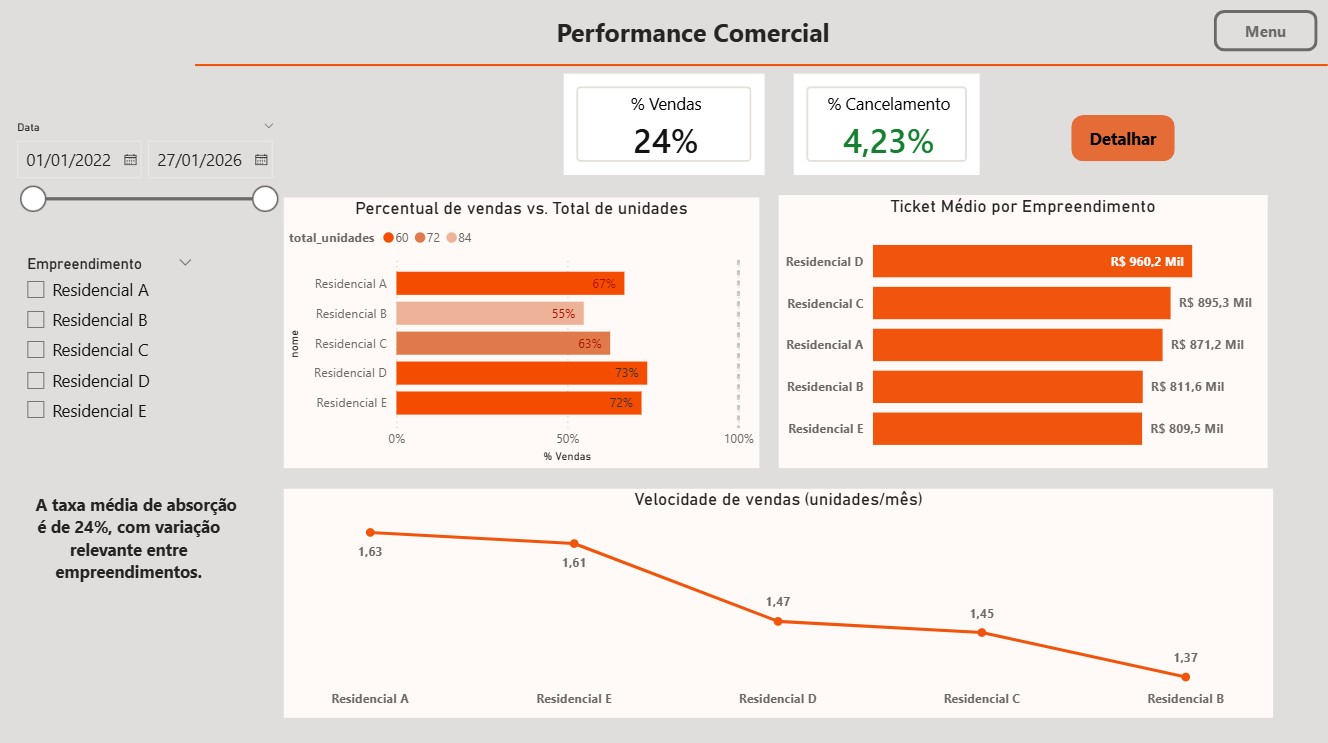

What the dashboard file says about the page in this screenshot:
{"tool":"powerbi","page":{"name":"Performance Comercial","canvas":[1280,720],"ordinal":2},"visuals":[{"type":"cardVisual","fields":{"Data":["Medidas.% Cancelamento"]},"box":[759.9,66.5,189.8,107.3],"z":0},{"type":"cardVisual","fields":{"Data":["Medidas.% Vendas"]},"box":[538.2,66.5,203.9,107.3],"z":1000},{"type":"lineChart","title":"Velocidade de vendas (unidades/mês)","fields":{"Category":["empreendimentos.nome"],"Y":["Medidas.Velocidade_Vendas"]},"box":[274,470.8,953.2,220.8],"z":2000},{"type":"barChart","title":"Percentual de vendas vs. Total de unidades","fields":{"Category":["empreendimentos.nome"],"Y":["Medidas.% Vendas"],"Series":["empreendimentos.total_unidades"]},"box":[273.9,190.6,458.4,260.6],"z":3000},{"type":"barChart","title":"Ticket Médio por Empreendimento","fields":{"Category":["empreendimentos.nome"],"Y":["Medidas.Ticket_Medio_Concluido"]},"box":[751,188,470.8,263.3],"z":4000},{"type":"slicer","fields":{"Values":["Calendario.Date"]},"box":[3,110.9,273.1,107.8],"z":5000},{"type":"slicer","fields":{"Values":["empreendimentos.nome"]},"box":[13.1,240.9,184.4,179.4],"z":6000},{"type":"actionButton","box":[1032.9,111.2,99.8,44.7],"z":7000},{"type":"shape","box":[188.2,49.4,1091.8,26.6],"z":9000},{"type":"actionButton","box":[1169.6,9.8,100.2,39.9],"z":10000},{"type":"textbox","box":[13.3,470.4,221.4,111.2],"z":11000},{"type":"textbox","box":[531.2,9.5,324,51.3],"z":12000}]}

Visuals, with their boxes in screenshot pixels (x1, y1, x2, y2), scaled from the page's 1280x720 canvas onto the 1328x743 screenshot:
cardVisual - Medidas.% Cancelamento: [788, 69, 985, 179]
cardVisual - Medidas.% Vendas: [558, 69, 770, 179]
"Velocidade de vendas (unidades/mês)" lineChart: [284, 486, 1273, 714]
"Percentual de vendas vs. Total de unidades" barChart: [284, 197, 760, 466]
"Ticket Médio por Empreendimento" barChart: [779, 194, 1268, 466]
slicer - Calendario.Date: [3, 114, 286, 226]
slicer - empreendimentos.nome: [14, 249, 205, 434]
actionButton: [1072, 115, 1175, 161]
shape: [195, 51, 1327, 78]
actionButton: [1213, 10, 1317, 51]
textbox: [14, 485, 244, 600]
textbox: [551, 10, 887, 63]
